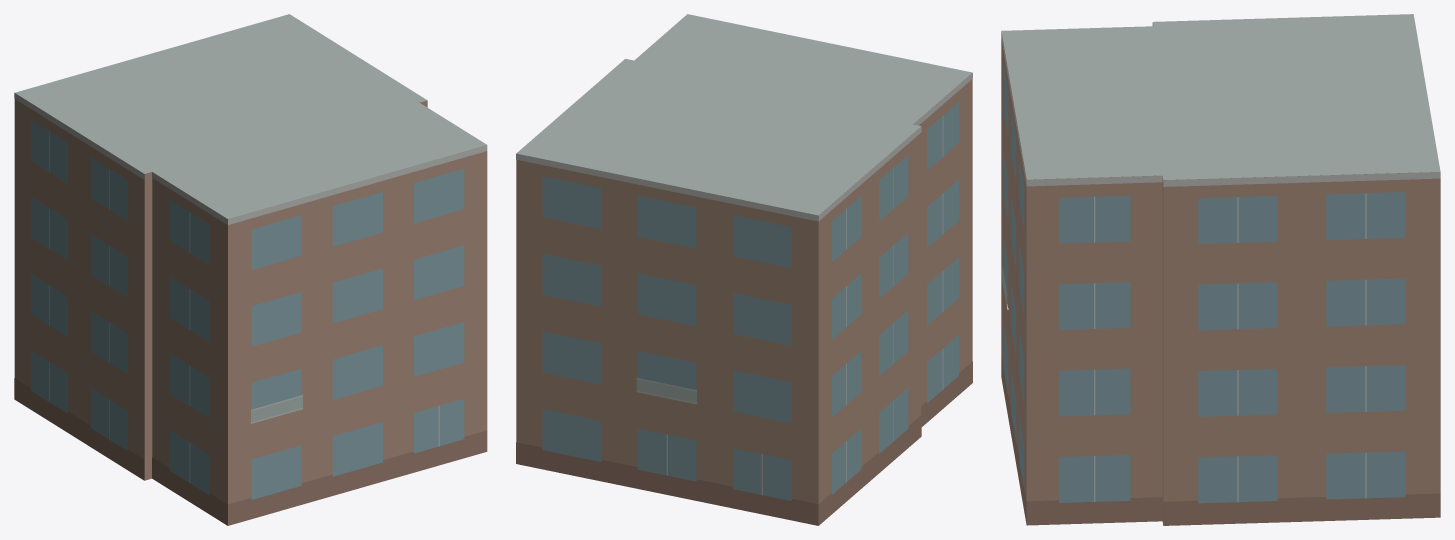
The model's file is survey-upis-32942299.glb.
3 renders of one model, left to right at view 1: azimuth 30°, elevation 25°; view 2: azimuth 150°, elevation 25°; view 3: azimuth 270°, elevation 25°, orthographic. The views are drawn at different scales.
Parts seen in each view (by area): view 1: survey-upis-32942299.tmp; view 2: survey-upis-32942299.tmp; view 3: survey-upis-32942299.tmp.
Boxes of the visible parts, x1=… form: survey-upis-32942299.tmp: x1=14, y1=14, x2=487, y2=525; survey-upis-32942299.tmp: x1=516, y1=14, x2=972, y2=525; survey-upis-32942299.tmp: x1=1001, y1=14, x2=1440, y2=525.
Bounding box in the file's own units: 12.89 × 12.5 × 14.4.
